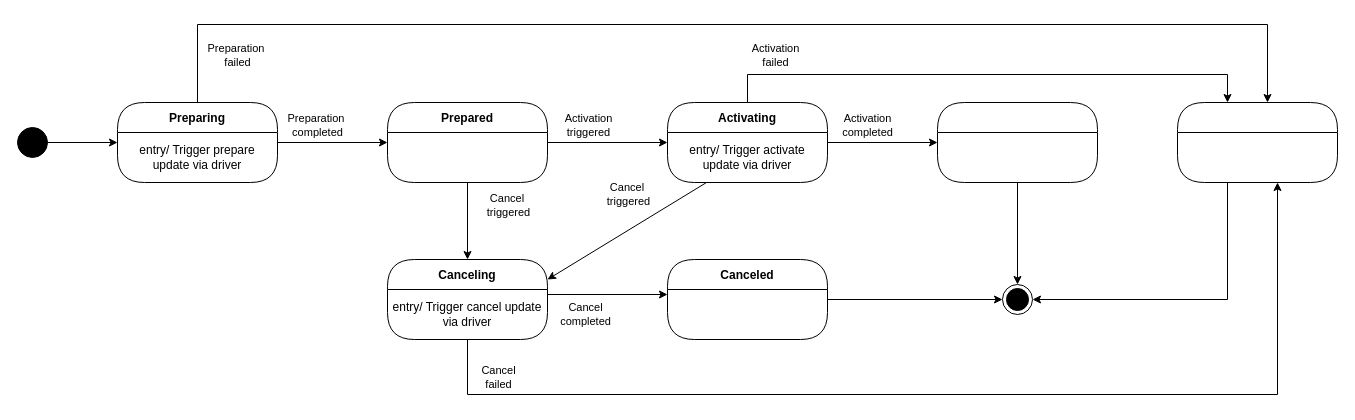
Some shapes in this 1355 by 420 pixel diagram are drawn without their labels. The shapes that lost their labels are listed below. From the top down, each one's centre as x and y in pixels, then its label:
At point 1017,142: "Activated".
At point 1257,142: "Failed".
